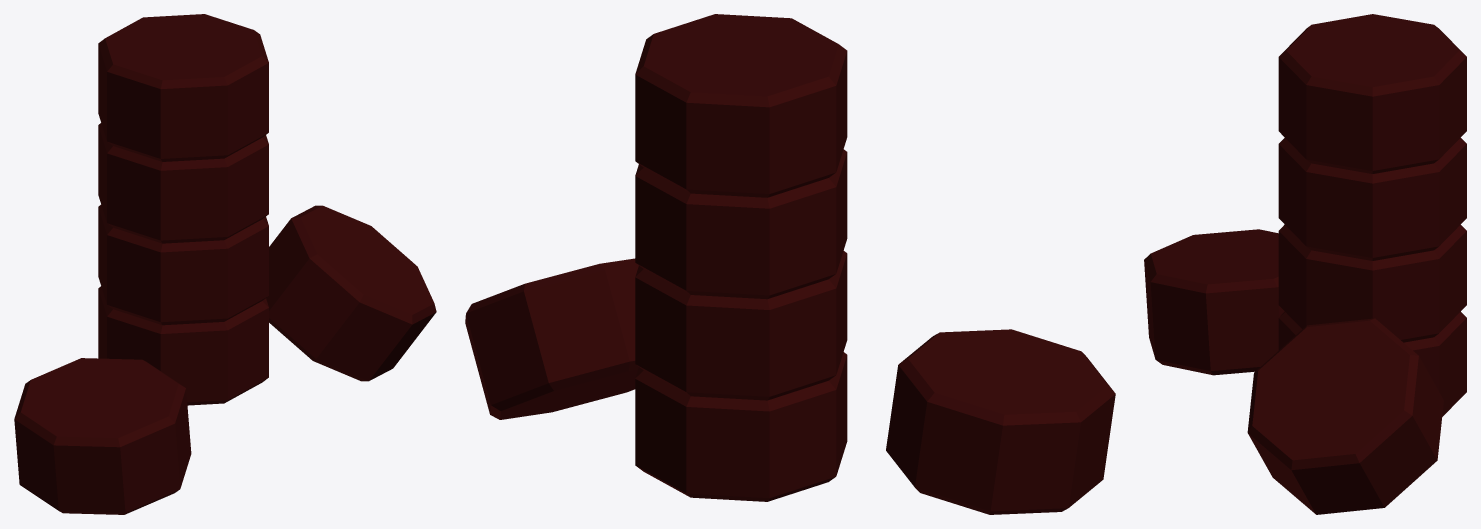
Rendered from column02.fbx.
The picture shows the model from 3 angles, left to right: view 1: azimuth 30°, elevation 25°; view 2: azimuth 150°, elevation 25°; view 3: azimuth 270°, elevation 25°; orthographic projection. The views are drawn at different scales.
Parts seen in each view (by area): view 1: col_stone06, col_stone04, col_stone05, col_stone03, col_stone02, col_stone01; view 2: col_stone06, col_stone04, col_stone03, col_stone01, col_stone02, col_stone05; view 3: col_stone05, col_stone04, col_stone06, col_stone03, col_stone02, col_stone01.
Boxes of the visible parts, x1,y1,x2,y2 form: col_stone06: (14, 358, 191, 514); col_stone04: (98, 14, 268, 161); col_stone05: (266, 205, 436, 381); col_stone03: (98, 123, 268, 243); col_stone02: (98, 205, 268, 325); col_stone01: (98, 286, 268, 405); col_stone06: (886, 329, 1115, 514); col_stone04: (635, 14, 847, 197); col_stone03: (635, 149, 847, 299); col_stone01: (635, 352, 847, 501); col_stone02: (635, 251, 847, 400); col_stone05: (465, 258, 638, 419); col_stone05: (1247, 318, 1443, 514); col_stone04: (1278, 14, 1466, 173); col_stone06: (1144, 229, 1284, 375); col_stone03: (1278, 137, 1466, 260); col_stone02: (1278, 224, 1466, 342); col_stone01: (1278, 311, 1466, 416).
Bounding box in the file's own units: 47.02 × 35.65 × 27.44.
